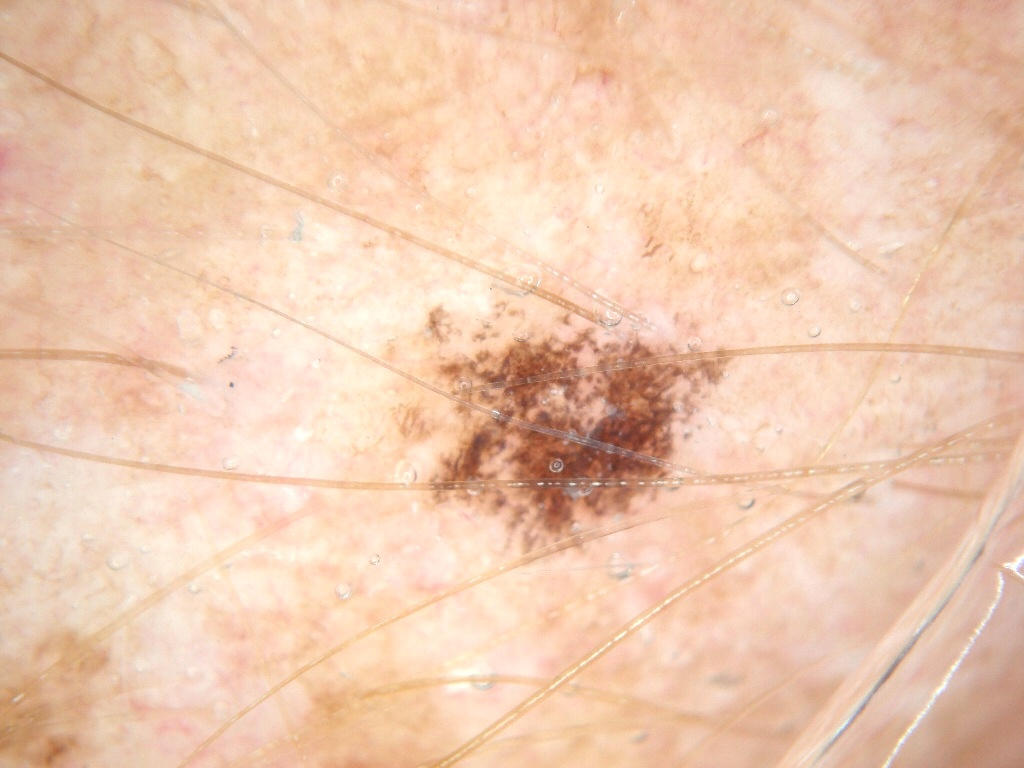Detected Lesion: (382, 290, 736, 556)
